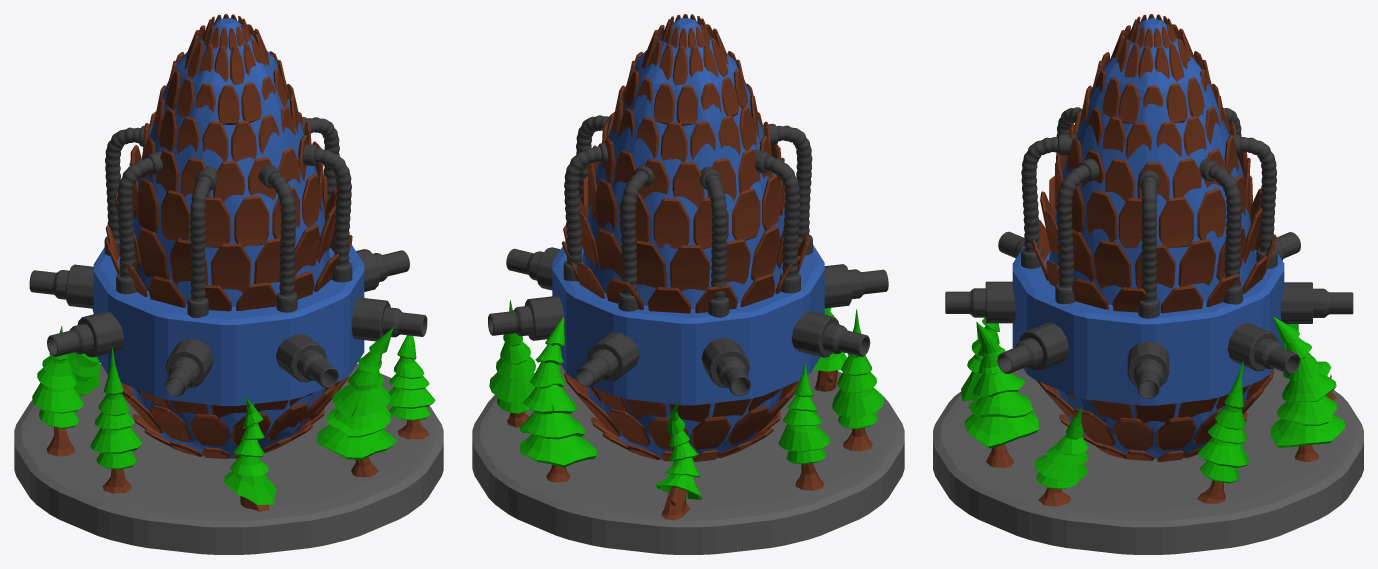
File: defence_BapNgo_5.fbx
The picture shows the model from 3 angles, left to right: view 1: azimuth 30°, elevation 25°; view 2: azimuth 150°, elevation 25°; view 3: azimuth 270°, elevation 25°; orthographic projection.
Visible parts, largest first — view 1: Turret_4_Level_5_Weapon, Turret_4_Level_5_Base; view 2: Turret_4_Level_5_Weapon, Turret_4_Level_5_Base; view 3: Turret_4_Level_5_Weapon, Turret_4_Level_5_Base.
Part boxes in pixels (x1,y1,x2,y2): Turret_4_Level_5_Weapon: (29, 14, 427, 458); Turret_4_Level_5_Base: (14, 308, 443, 554); Turret_4_Level_5_Weapon: (488, 14, 888, 462); Turret_4_Level_5_Base: (472, 300, 904, 554); Turret_4_Level_5_Weapon: (945, 14, 1353, 462); Turret_4_Level_5_Base: (933, 316, 1363, 554).
Bounding box in the file's own units: 385 × 441 × 385.
